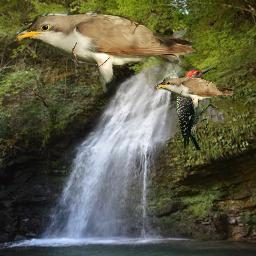Cuckoo: (12, 11, 199, 100), (154, 76, 236, 115)
Woodpecker: (176, 67, 220, 150)
